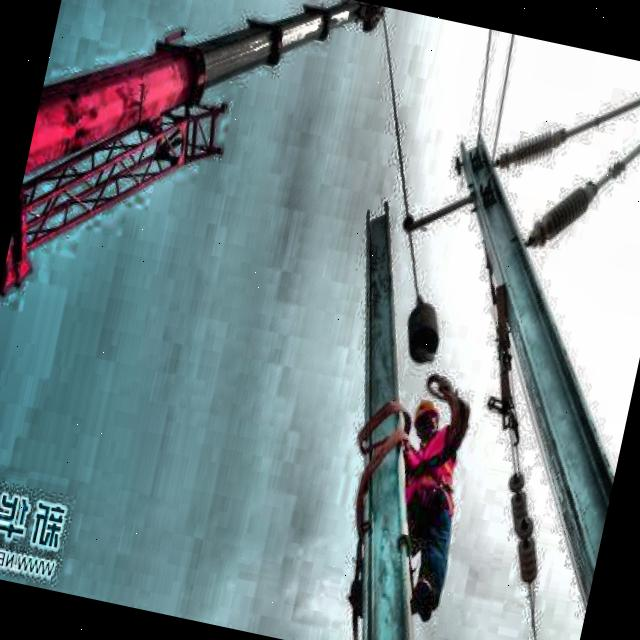helmet: (409, 392, 446, 446)
